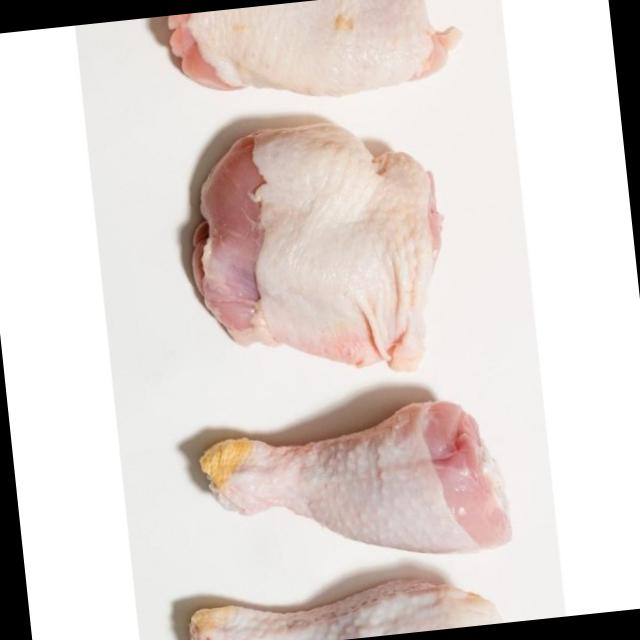chicken: (180, 110, 456, 394), (194, 397, 512, 578), (163, 0, 455, 105)
